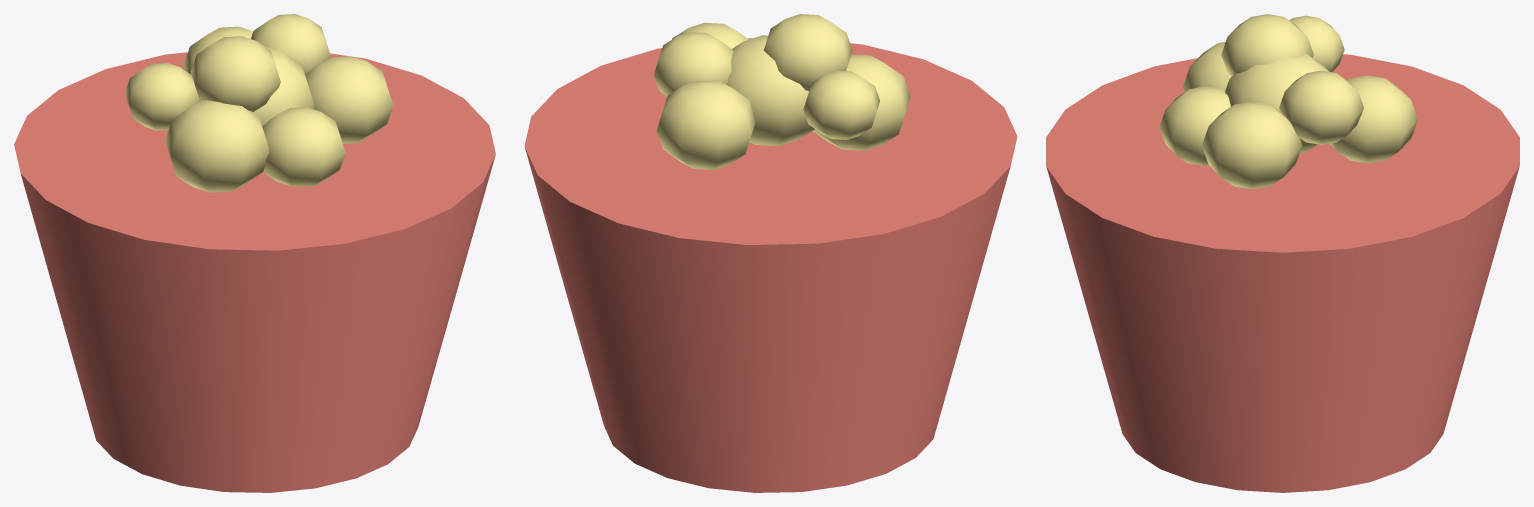
File: popcorn.glb
3 renders of one model, left to right at view 1: azimuth 30°, elevation 25°; view 2: azimuth 150°, elevation 25°; view 3: azimuth 270°, elevation 25°, orthographic. The views are drawn at different scales.
Bounding box in the file's own units: 1.24 × 1.12 × 1.23.
